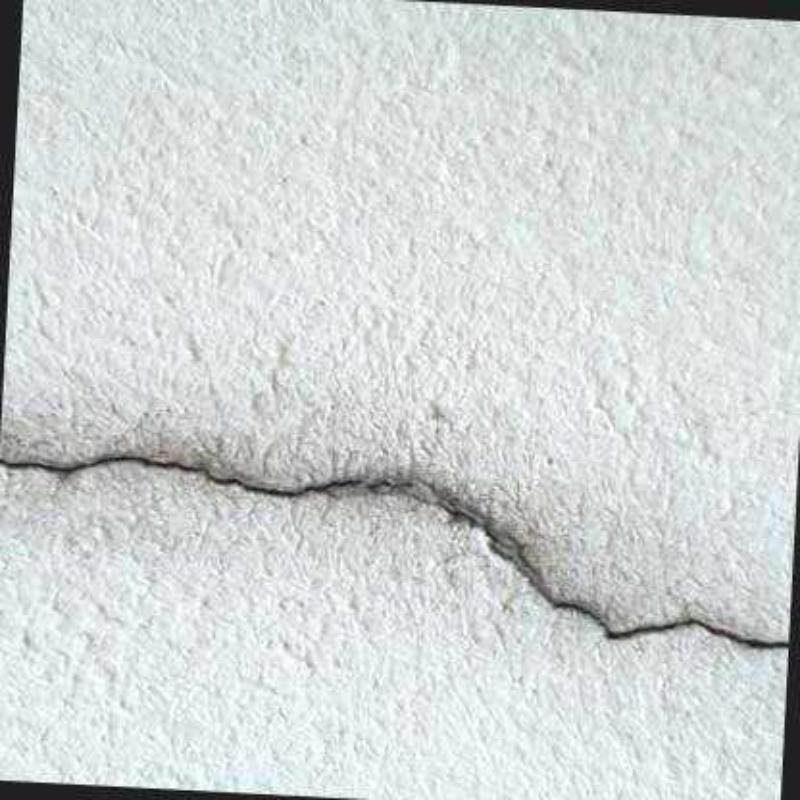pothole: (441, 509, 791, 650), (0, 455, 366, 499)
